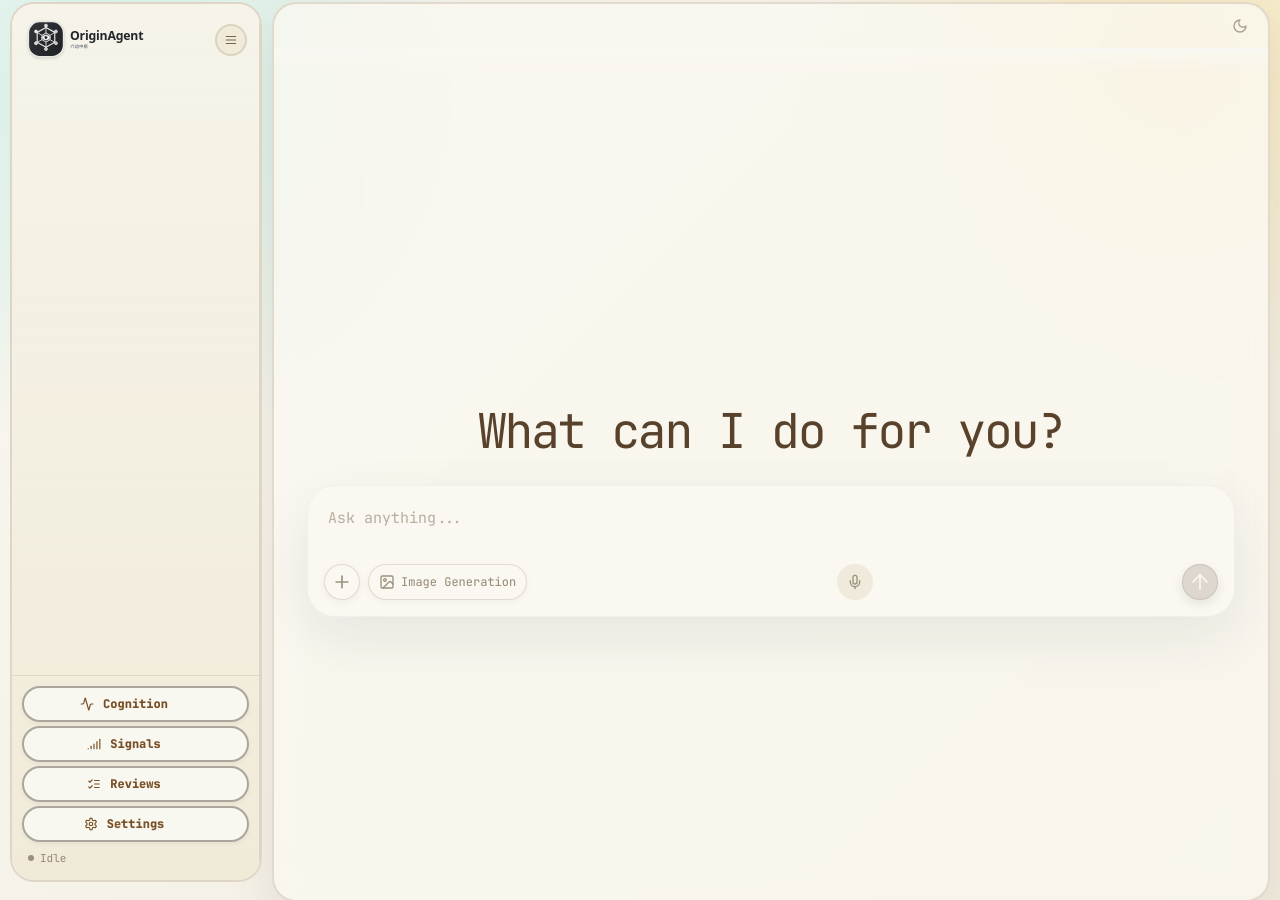
Test: App layout › keeps settings in a loading state during transient API failures
Click the button "Settings": x=136, y=824 [22, 806, 249, 842]
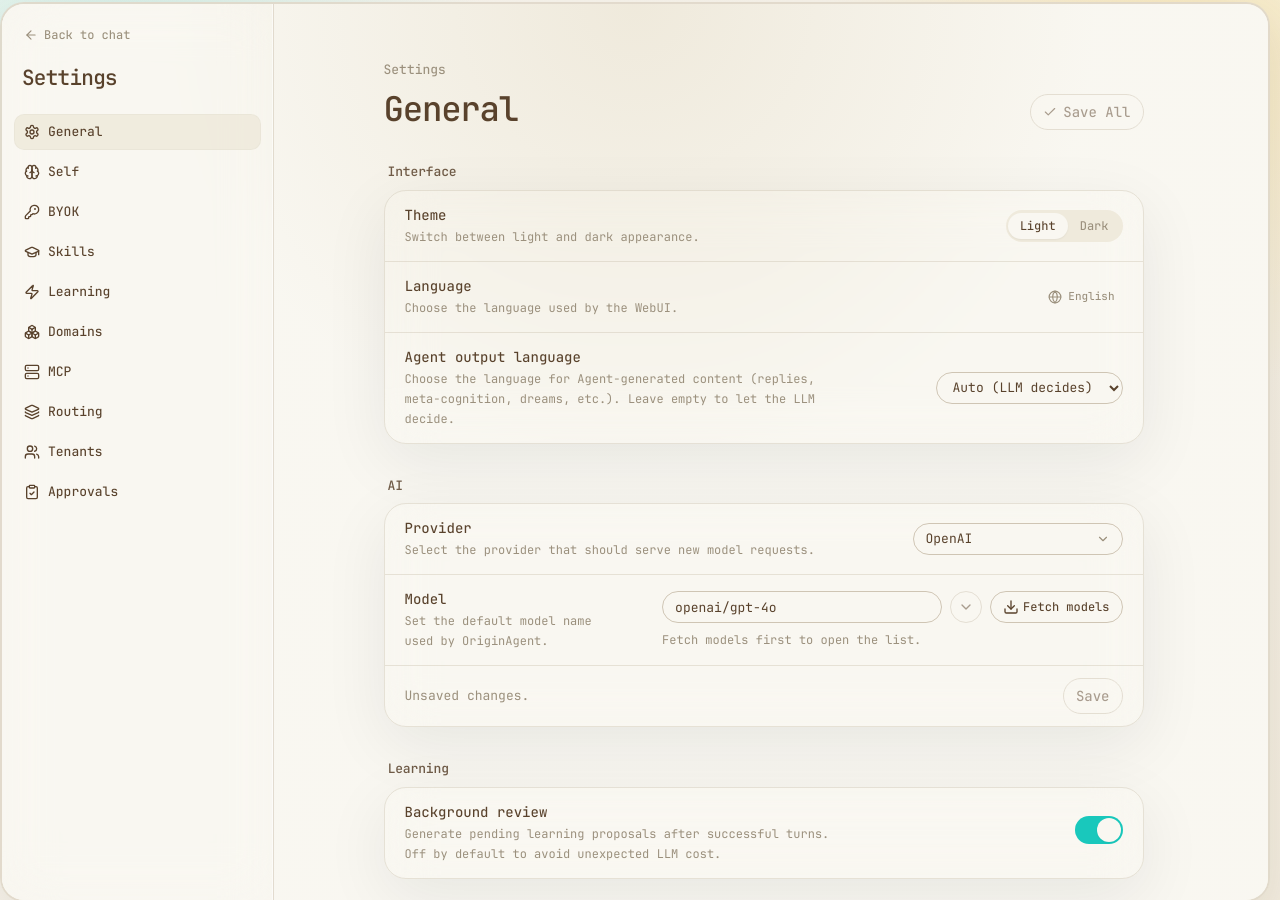
Now the field showing "openai/gpt-4o" is shown, box [662, 591, 942, 623]
